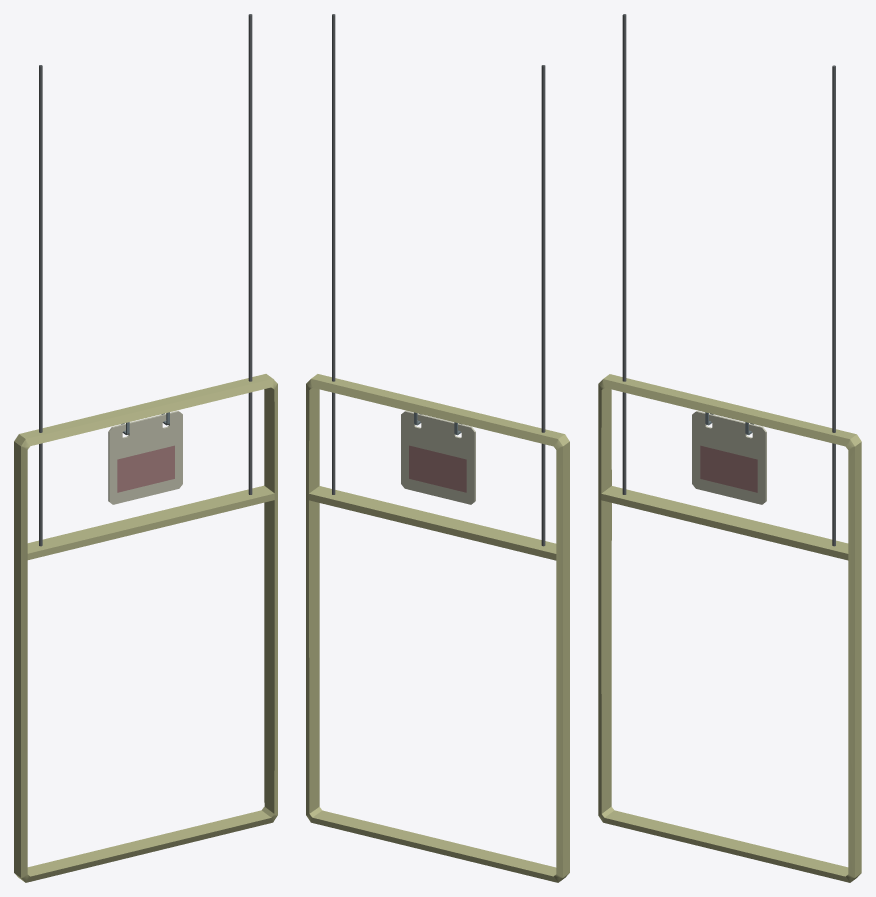
The model's file is Floating_Conveyor_Support_Frame.fbx.
The picture shows the model from 3 angles, left to right: view 1: azimuth 30°, elevation 25°; view 2: azimuth 150°, elevation 25°; view 3: azimuth 330°, elevation 25°; orthographic projection.
Parts seen in each view (by area): view 1: pCube55, pCylinder71, pCylinder70; view 2: pCube55, pCylinder70, pCylinder71; view 3: pCube55, pCylinder70, pCylinder71.
Boxes of the visible parts, x1,y1,x2,y2 form: pCube55: (14, 374, 277, 882); pCylinder71: (248, 14, 252, 494); pCylinder70: (39, 65, 42, 546); pCube55: (306, 374, 569, 882); pCylinder70: (541, 65, 545, 546); pCylinder71: (332, 14, 335, 494); pCube55: (598, 374, 861, 882); pCylinder70: (622, 14, 626, 494); pCylinder71: (832, 65, 835, 546).
Size of the model in its own units: 0.757 by 2.28 by 0.0545.
